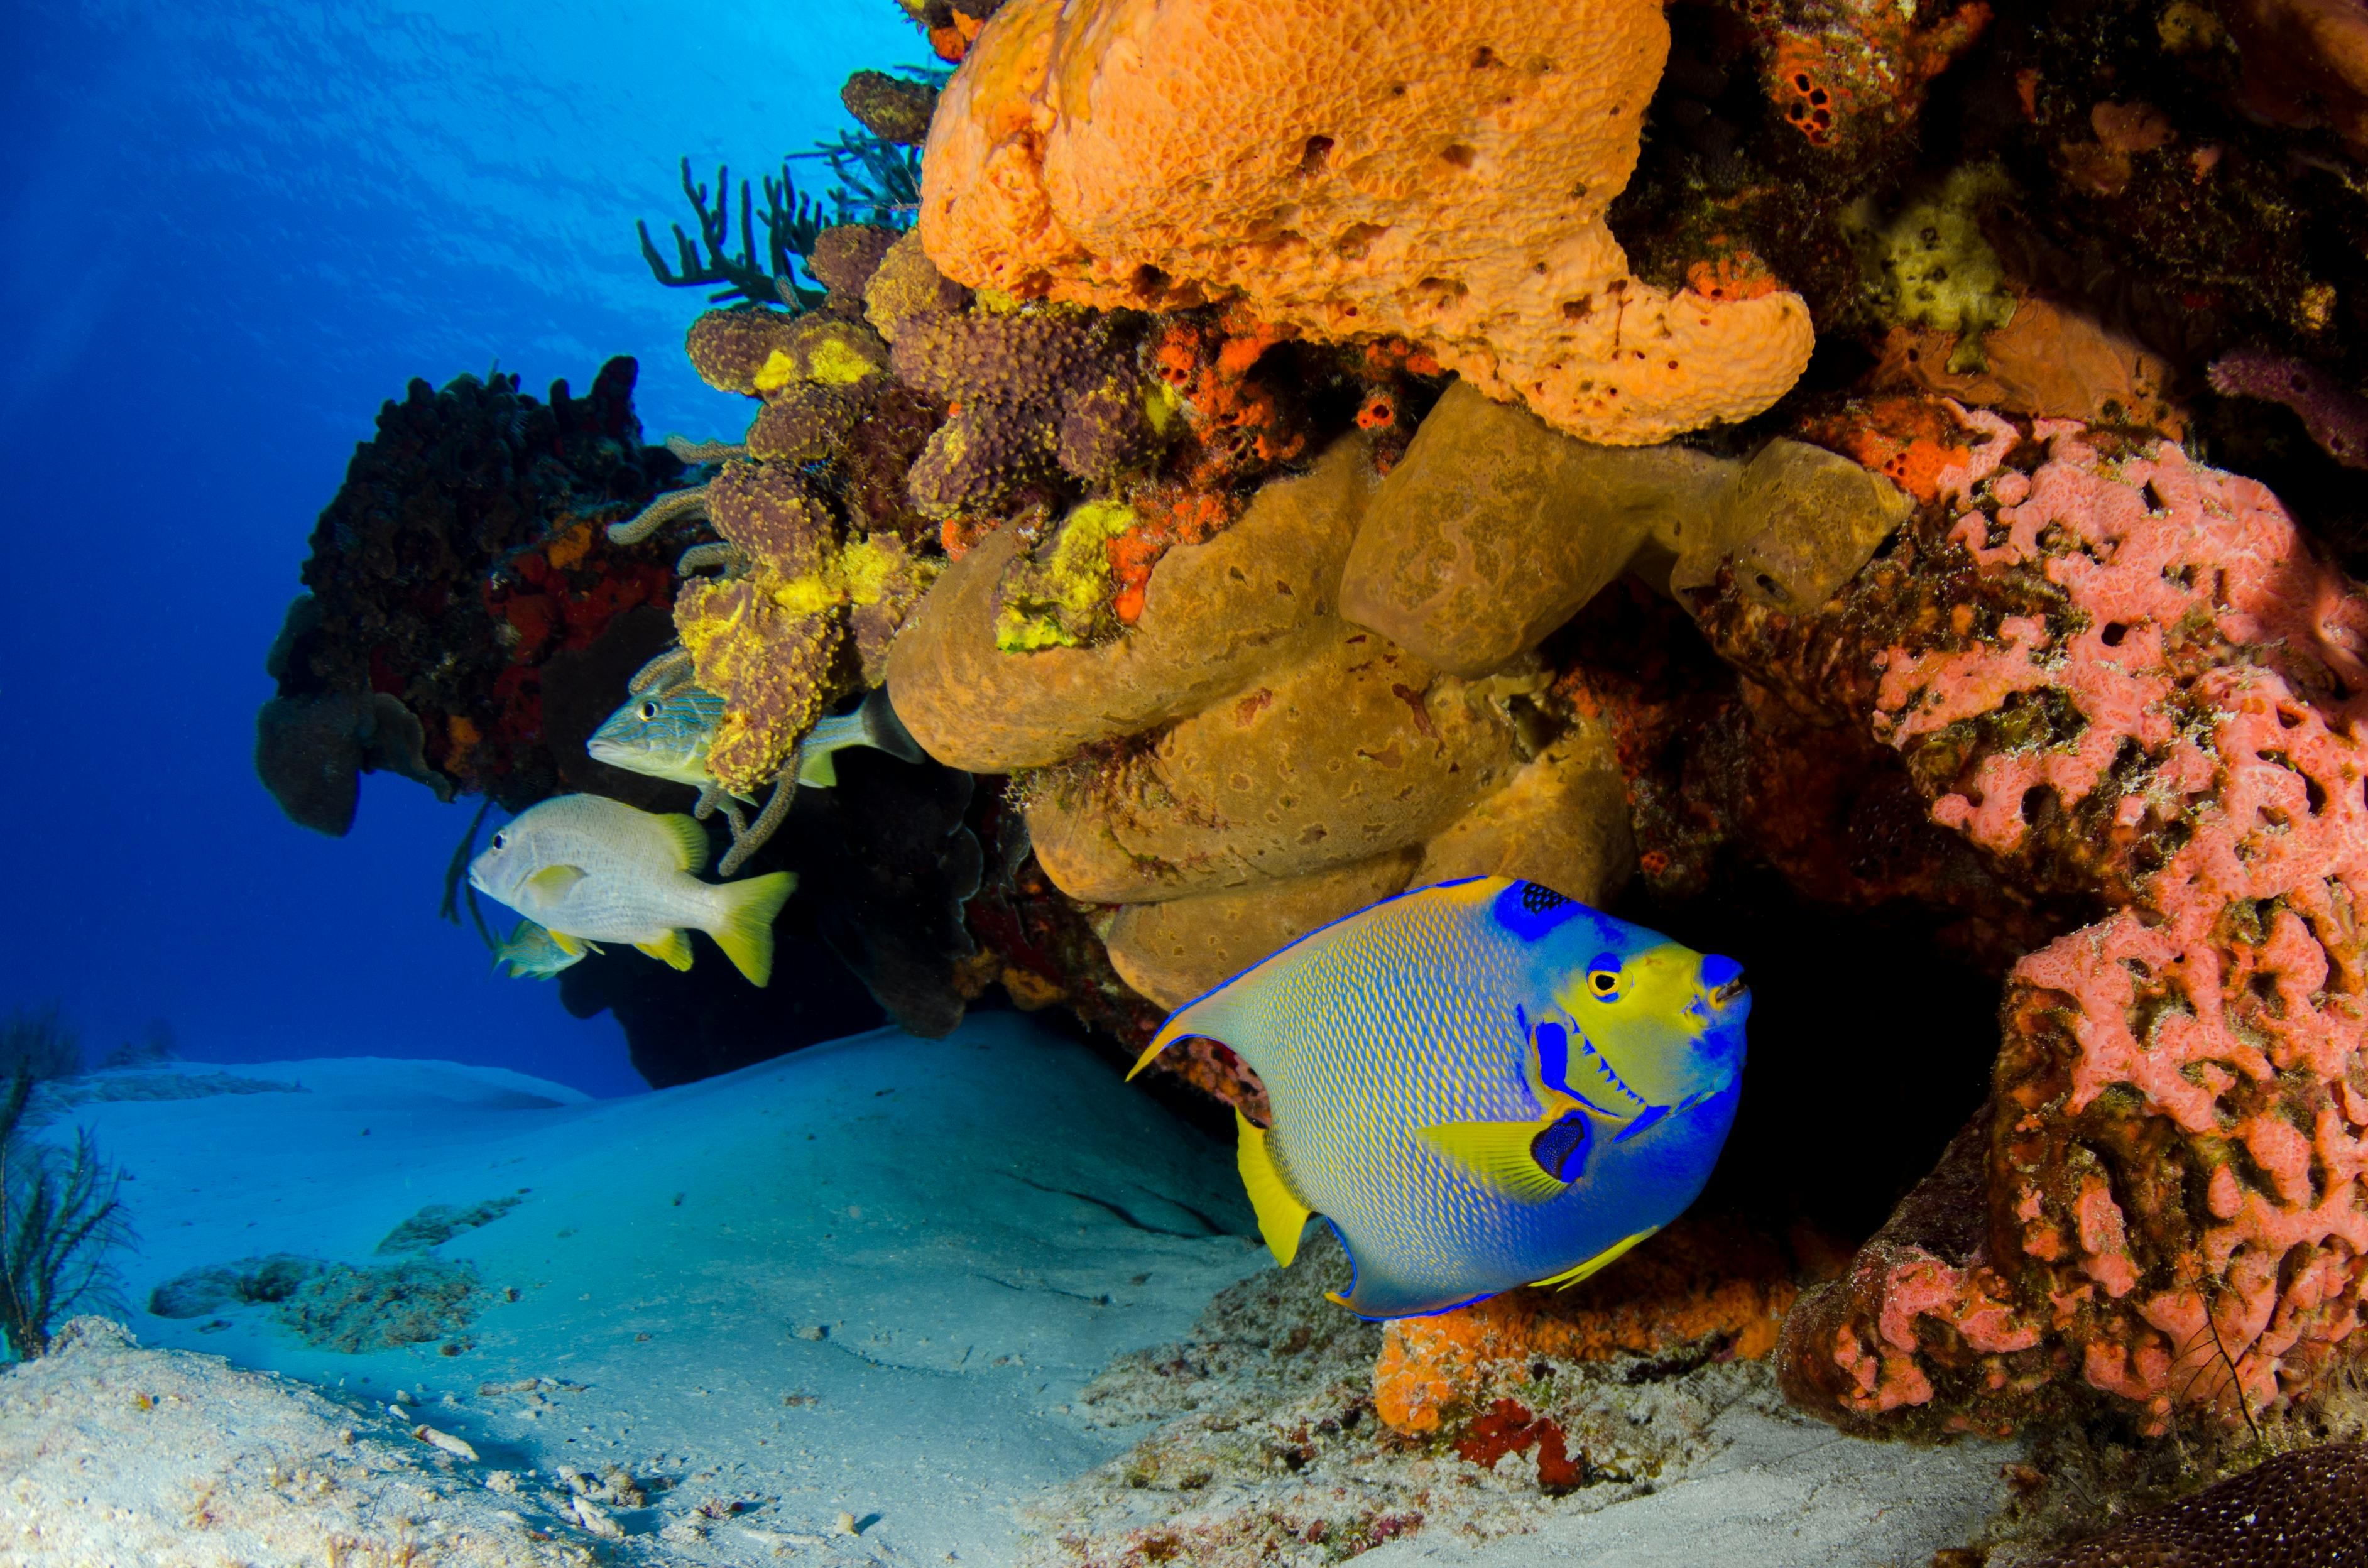fishLarge: (466, 793, 798, 989), (585, 654, 919, 796), (487, 919, 588, 983)
fishRound: (1125, 871, 1759, 1330)
